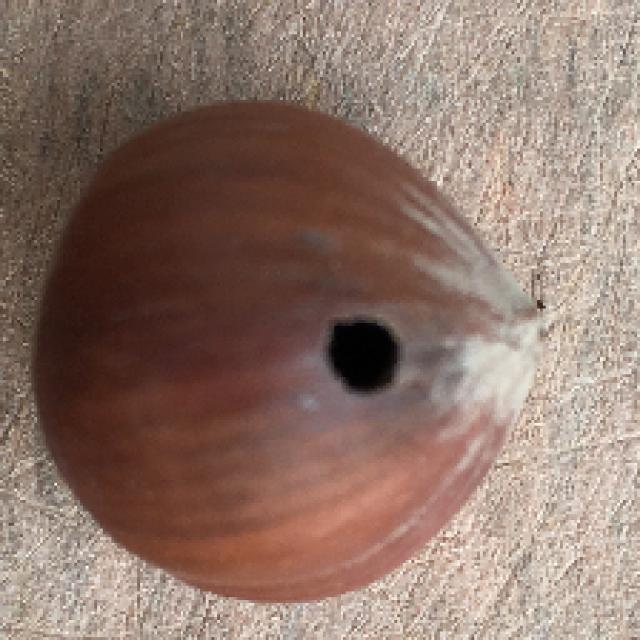DamagedHazelnut: (37, 107, 547, 606)
